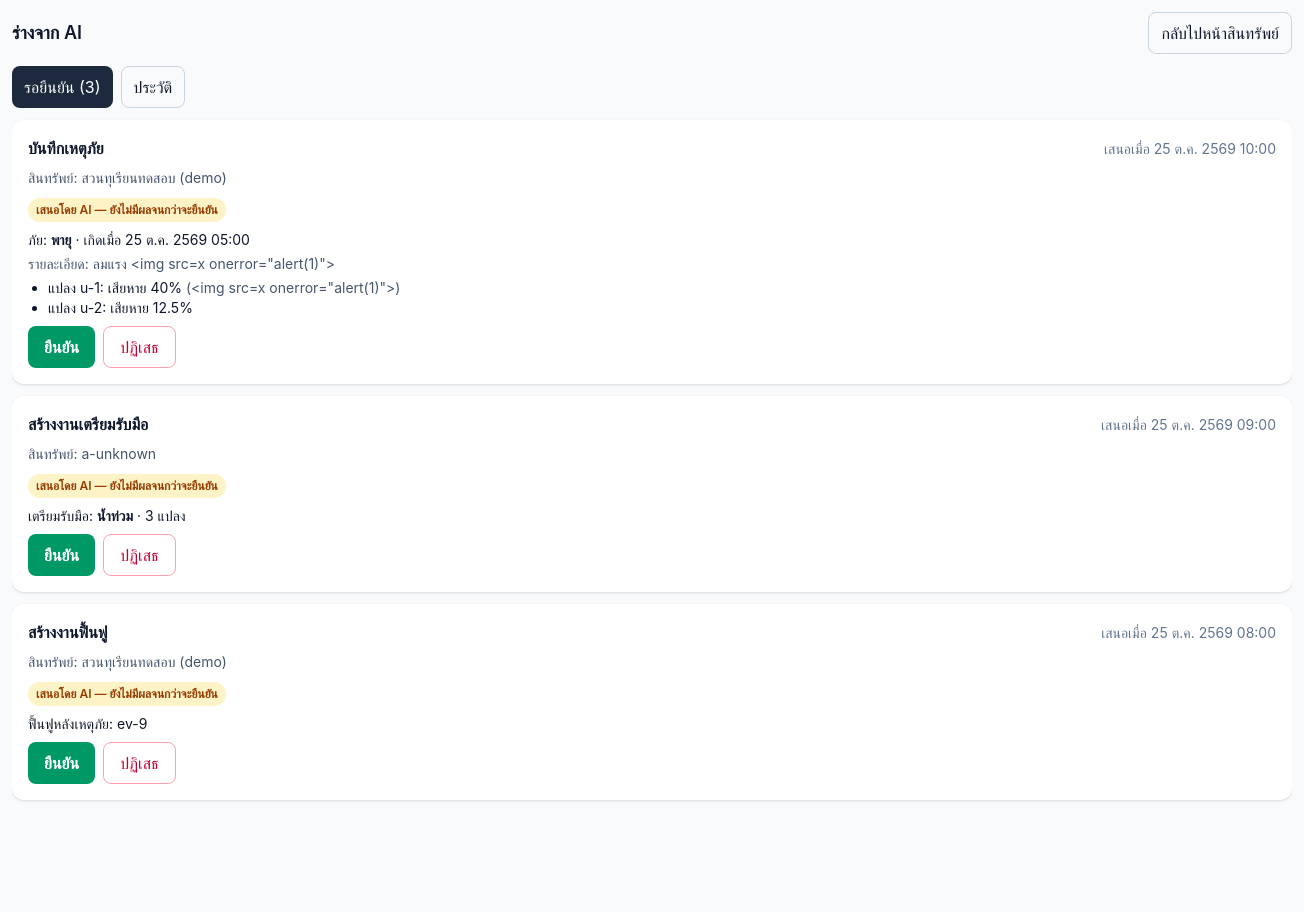
Test: DraftsInbox › reject sends the optional note as { note }
Click the button "ปฏิเสธ" below "สร้างงานเตรียมรับมือ": (139, 555) x1=103 y1=534 x2=176 y2=576
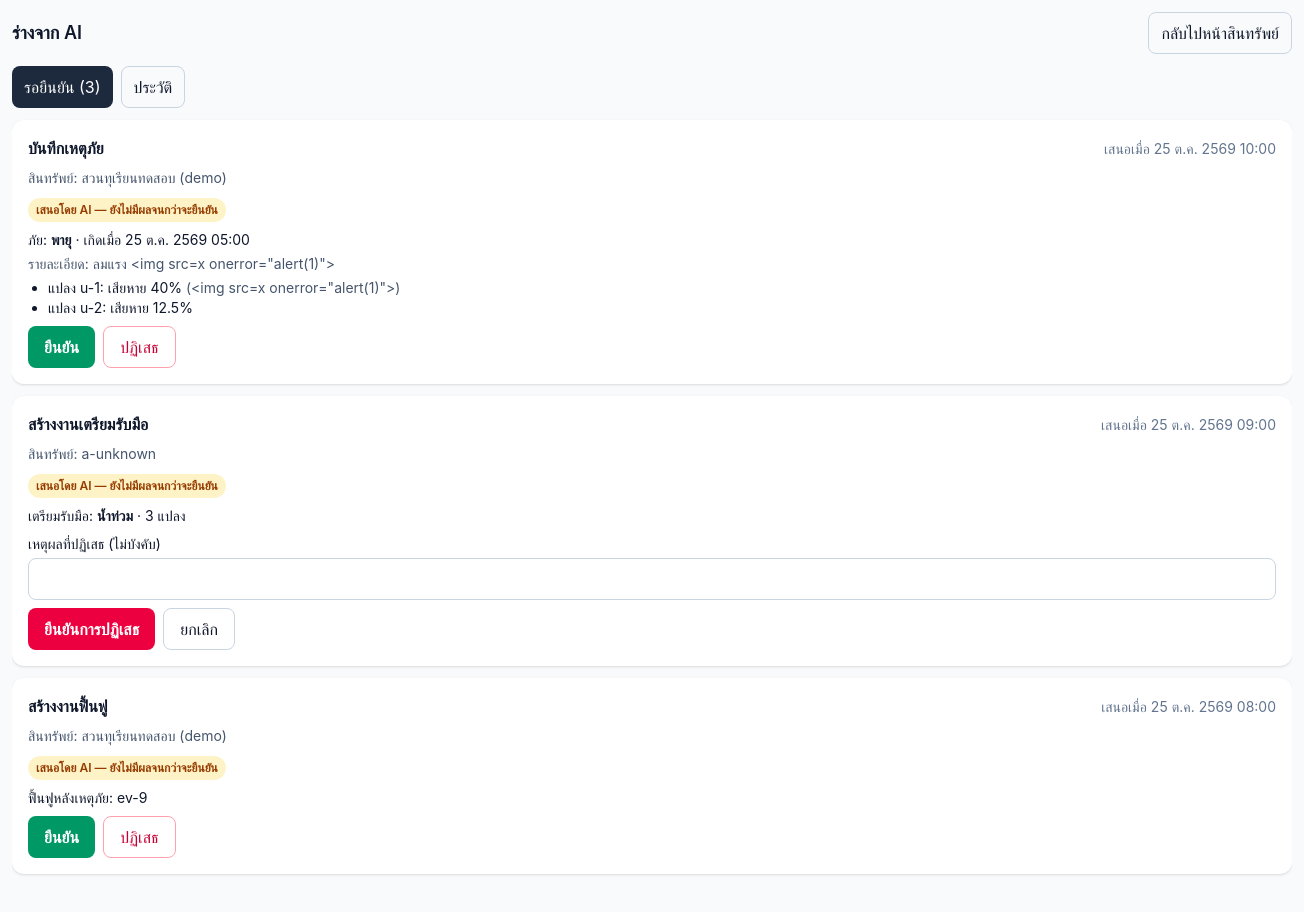
In the field labelled "เหตุผลที่ปฏิเสธ (ไม่บังคับ)": (652, 579) x1=28 y1=558 x2=1276 y2=600, type "  ยังไม่มีพายุเข้า  "
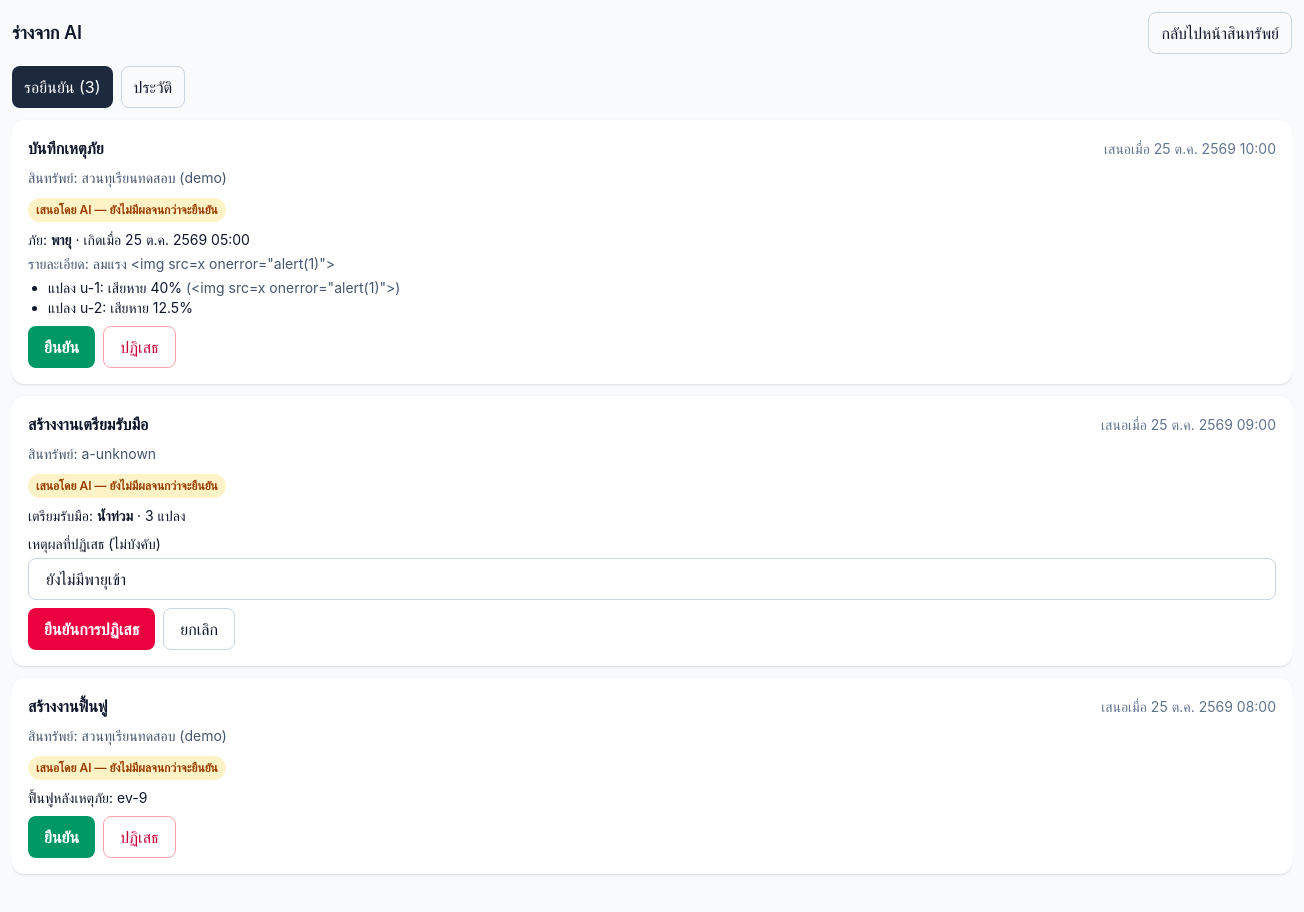
Click the button "ยืนยันการปฏิเสธ": (92, 629) x1=28 y1=608 x2=155 y2=650
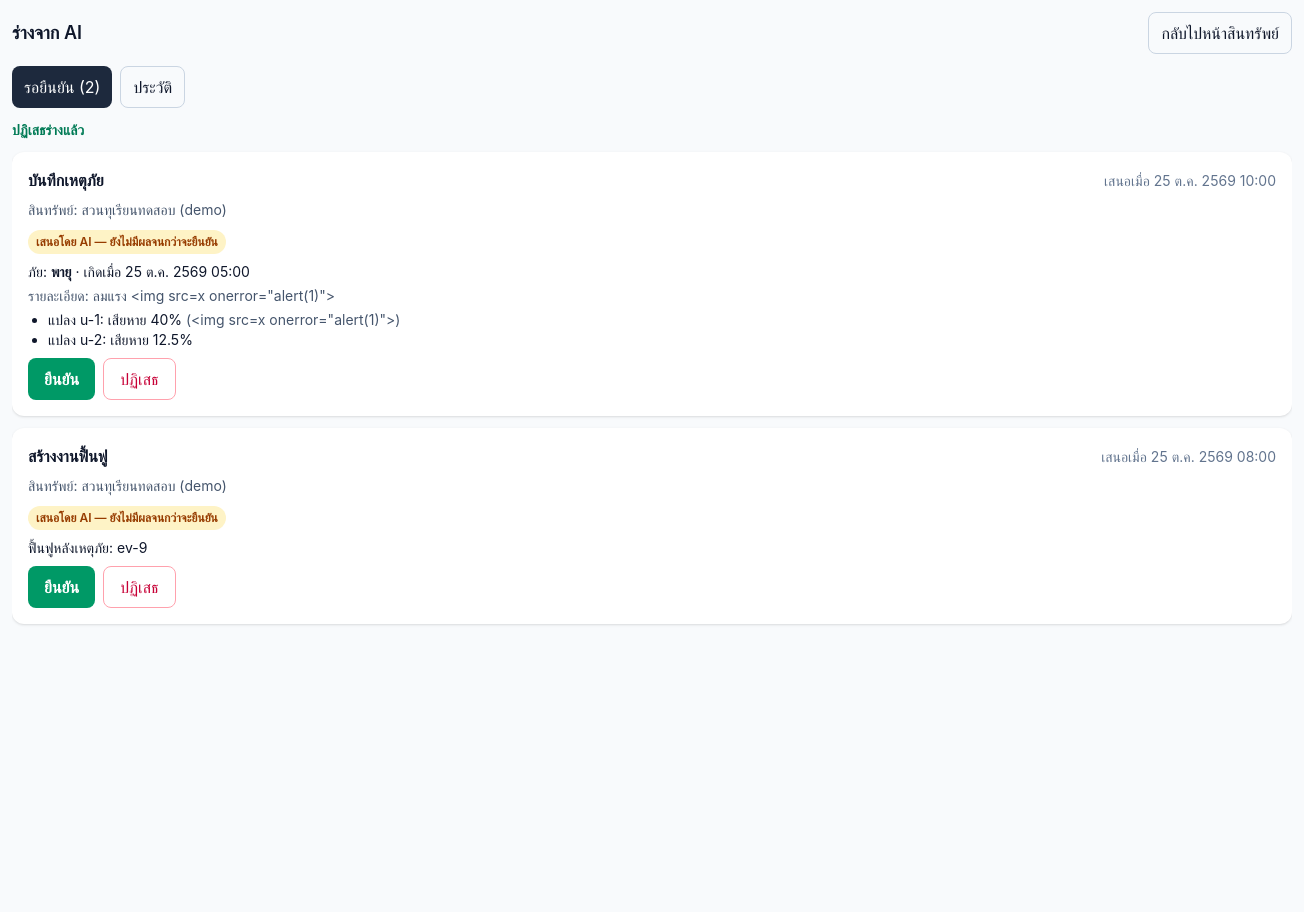
Expected: the text "ปฏิเสธร่างแล้ว" is shown, x1=12 y1=121 x2=84 y2=138
Expected: the number of list items with test id "draft-card" is 2, x1=12 y1=152 x2=1292 y2=416; x1=12 y1=428 x2=1292 y2=624
